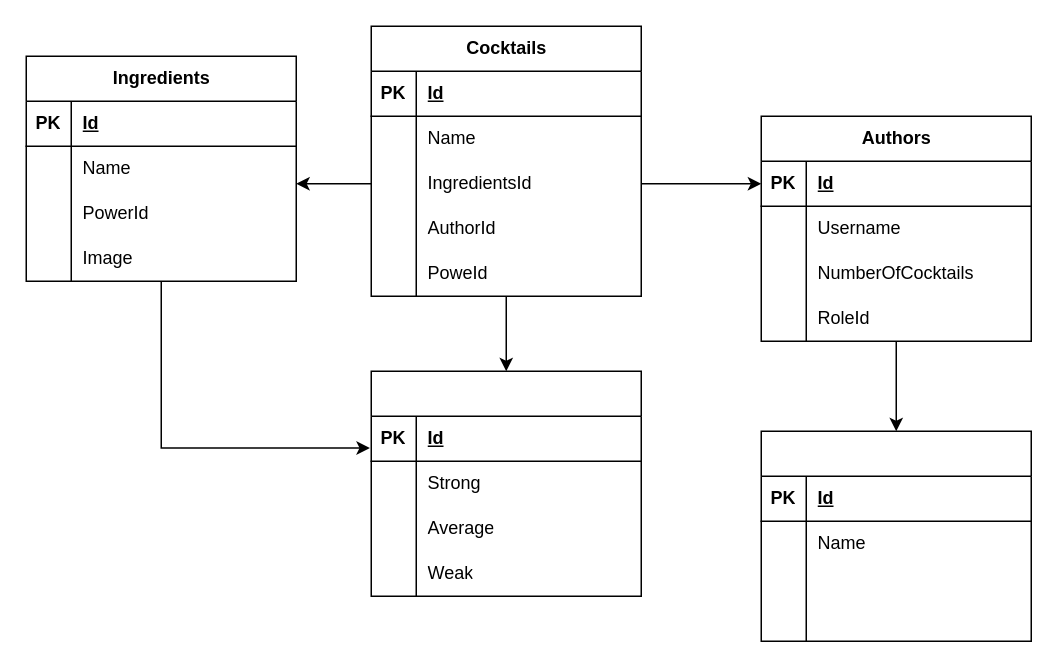
The diagram is 1058 pixels wide and 668 high, and some of its shapes have lost their labels. The box of each missing label's shape, as (x1, y1, x2, y2) in pixels:
Powers: (370, 370, 641, 596)
Roles: (760, 430, 1031, 641)
